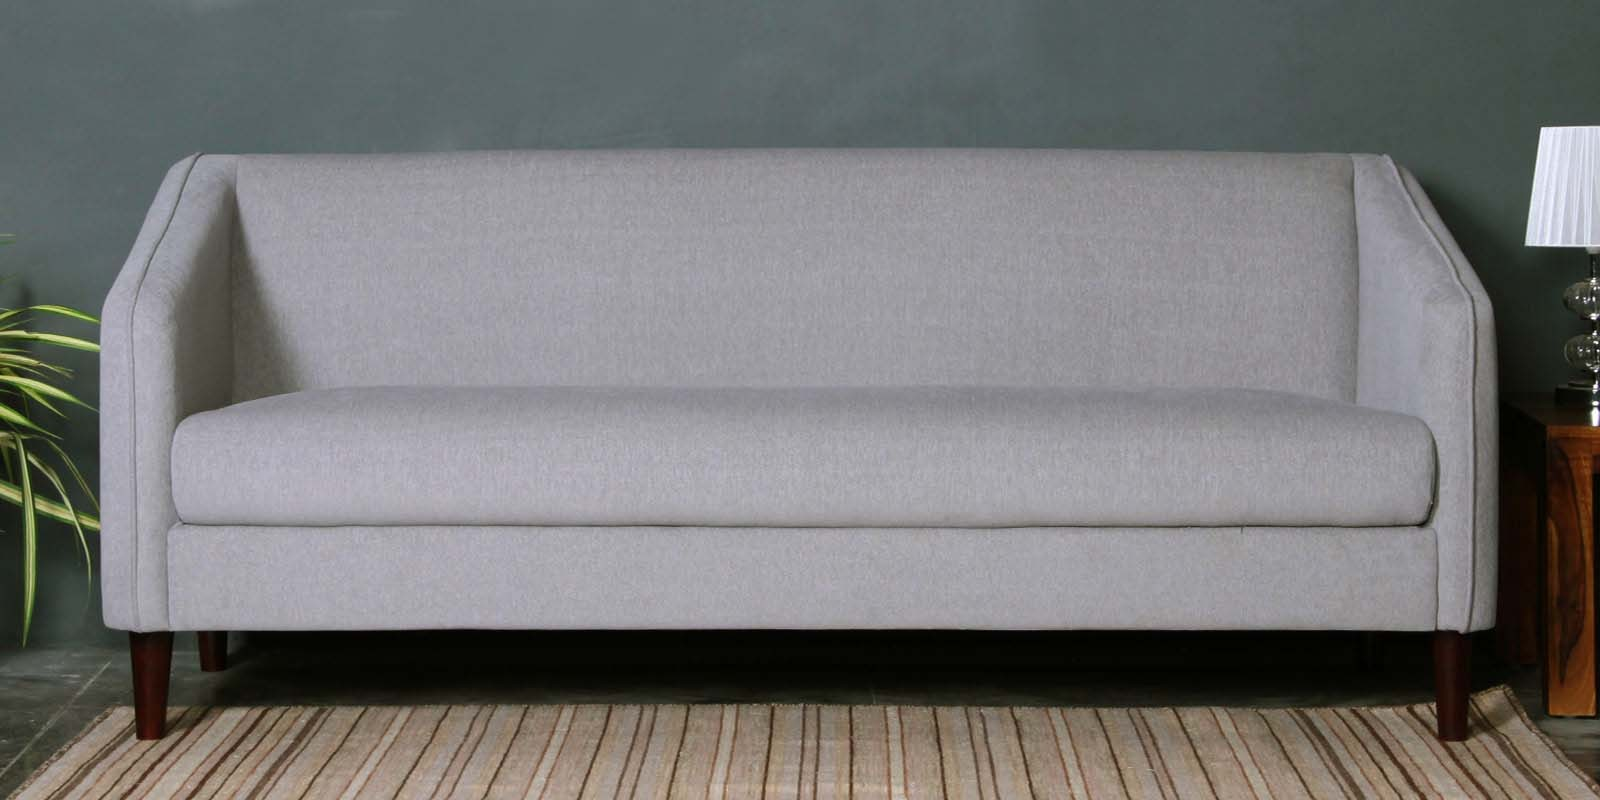Nina Three Seater Sofa in Ash Grey Colour by CasaCraft: (97, 147, 1502, 741)
